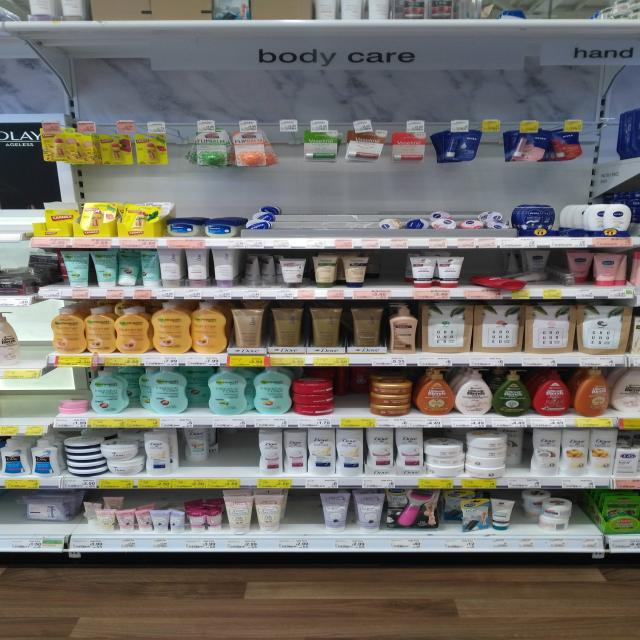empty: (1, 372, 61, 432), (281, 486, 331, 538), (207, 429, 258, 477), (372, 244, 412, 296), (560, 492, 597, 539), (15, 314, 48, 366)
